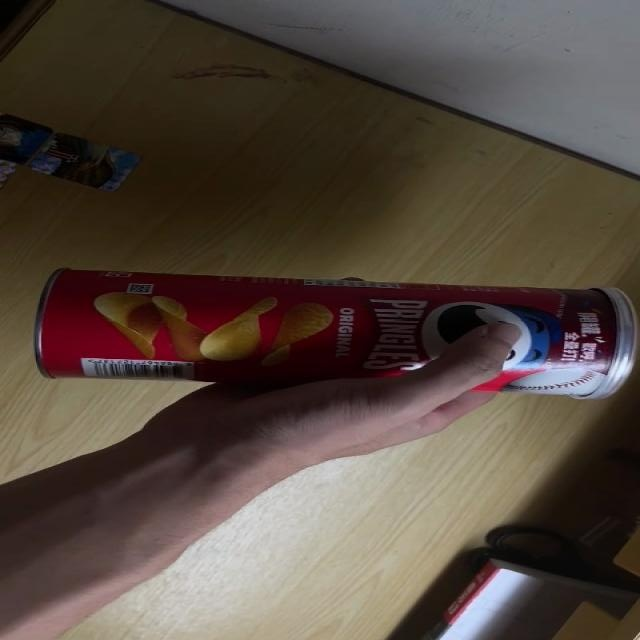Pringles: (34, 269, 635, 398)
